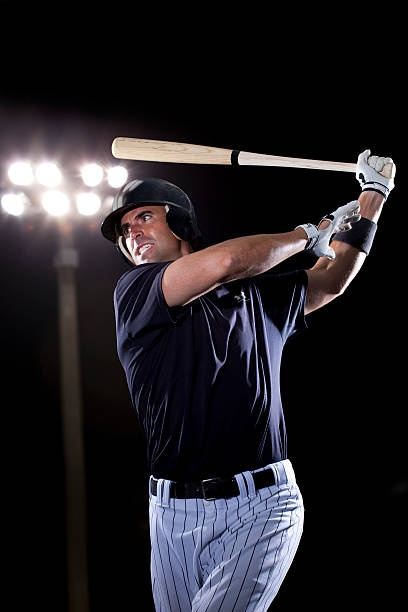bita: (97, 131, 367, 176)
